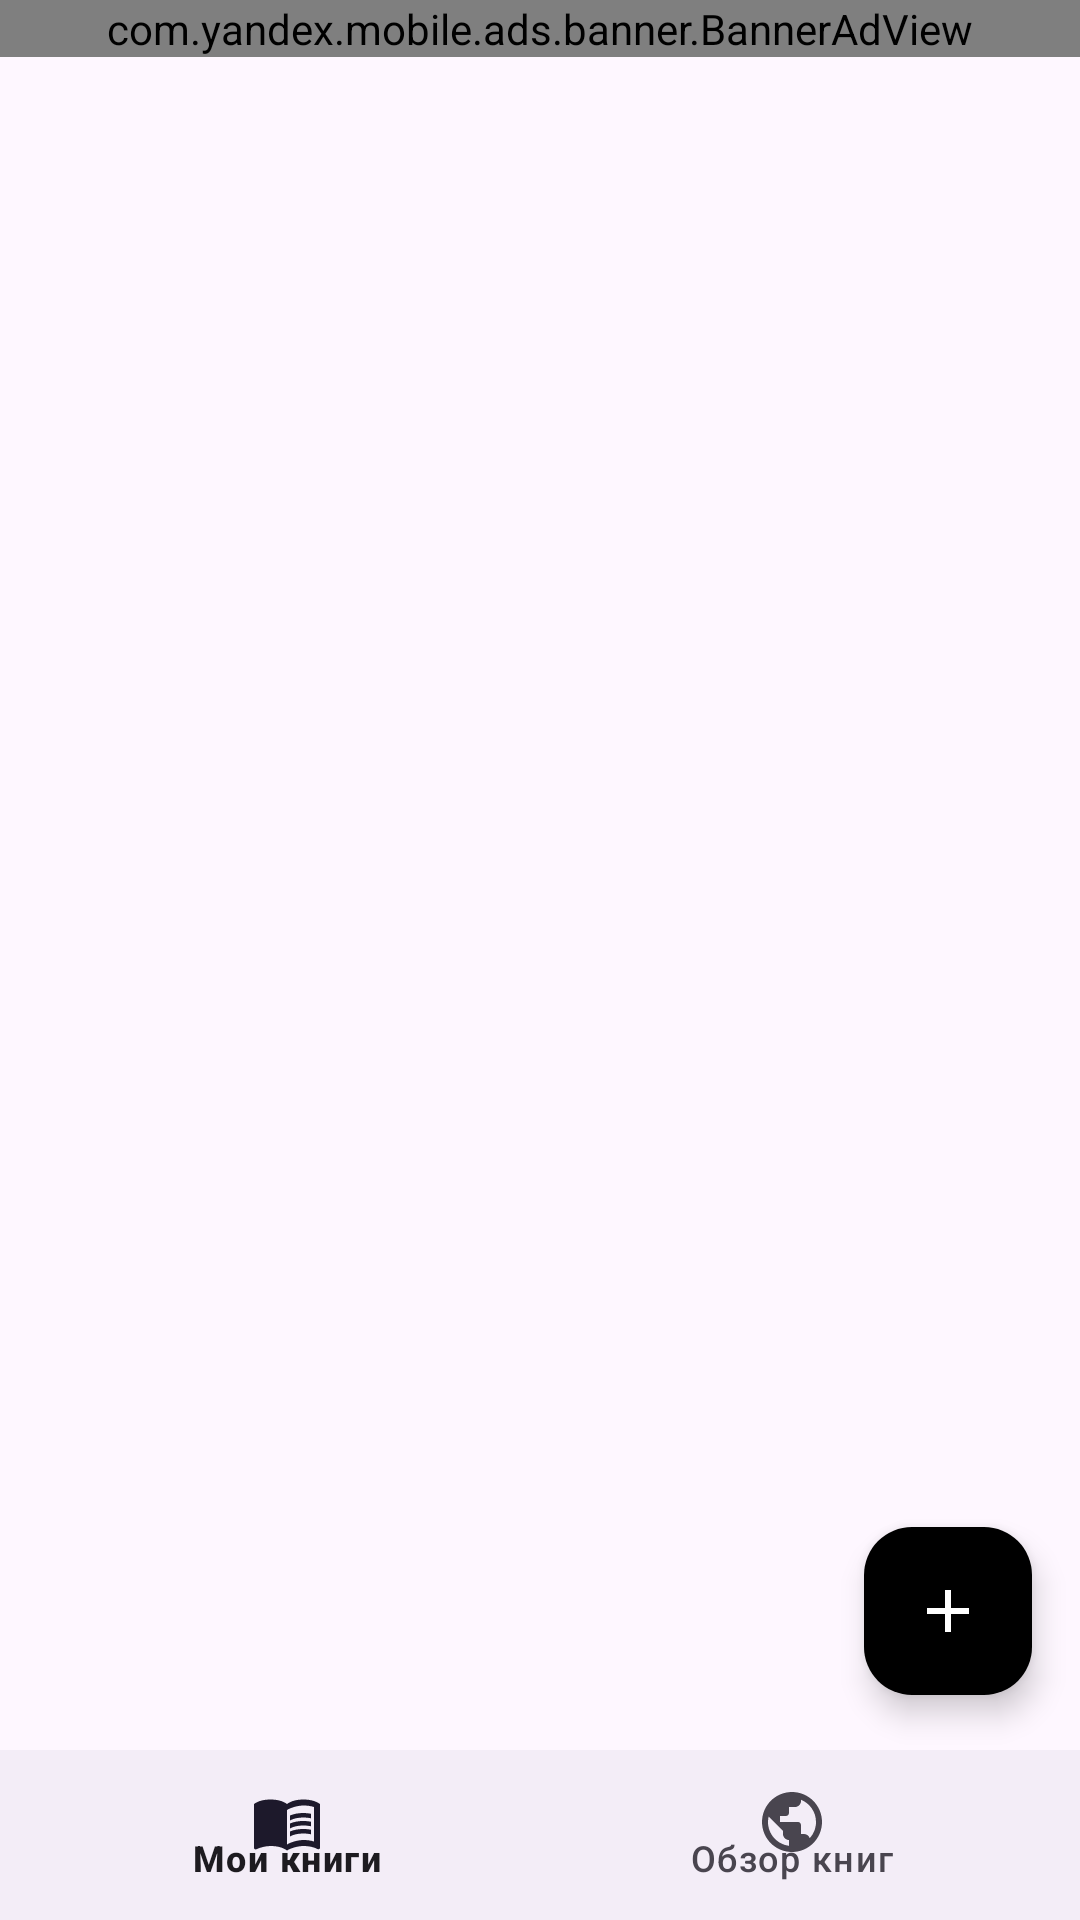

Icon click points for this 1080*1920 phone screenshot, format (x=x, y=y):
Добавить книгу: (x=948, y=1611)
